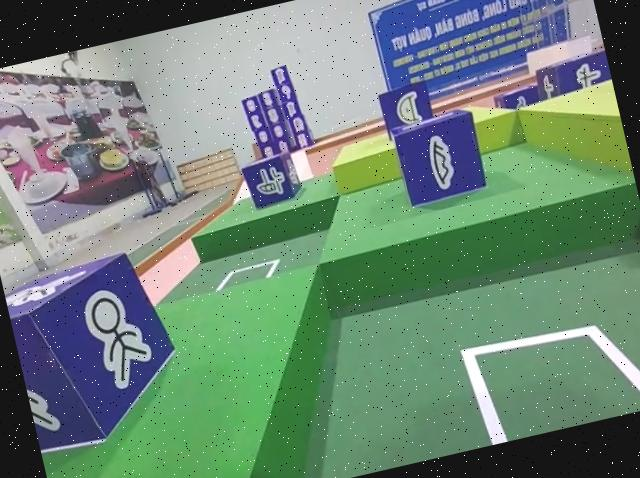R2 Real Blue: (0, 242, 192, 462), (385, 104, 489, 210), (533, 47, 617, 119), (239, 151, 305, 212), (376, 82, 438, 143)
